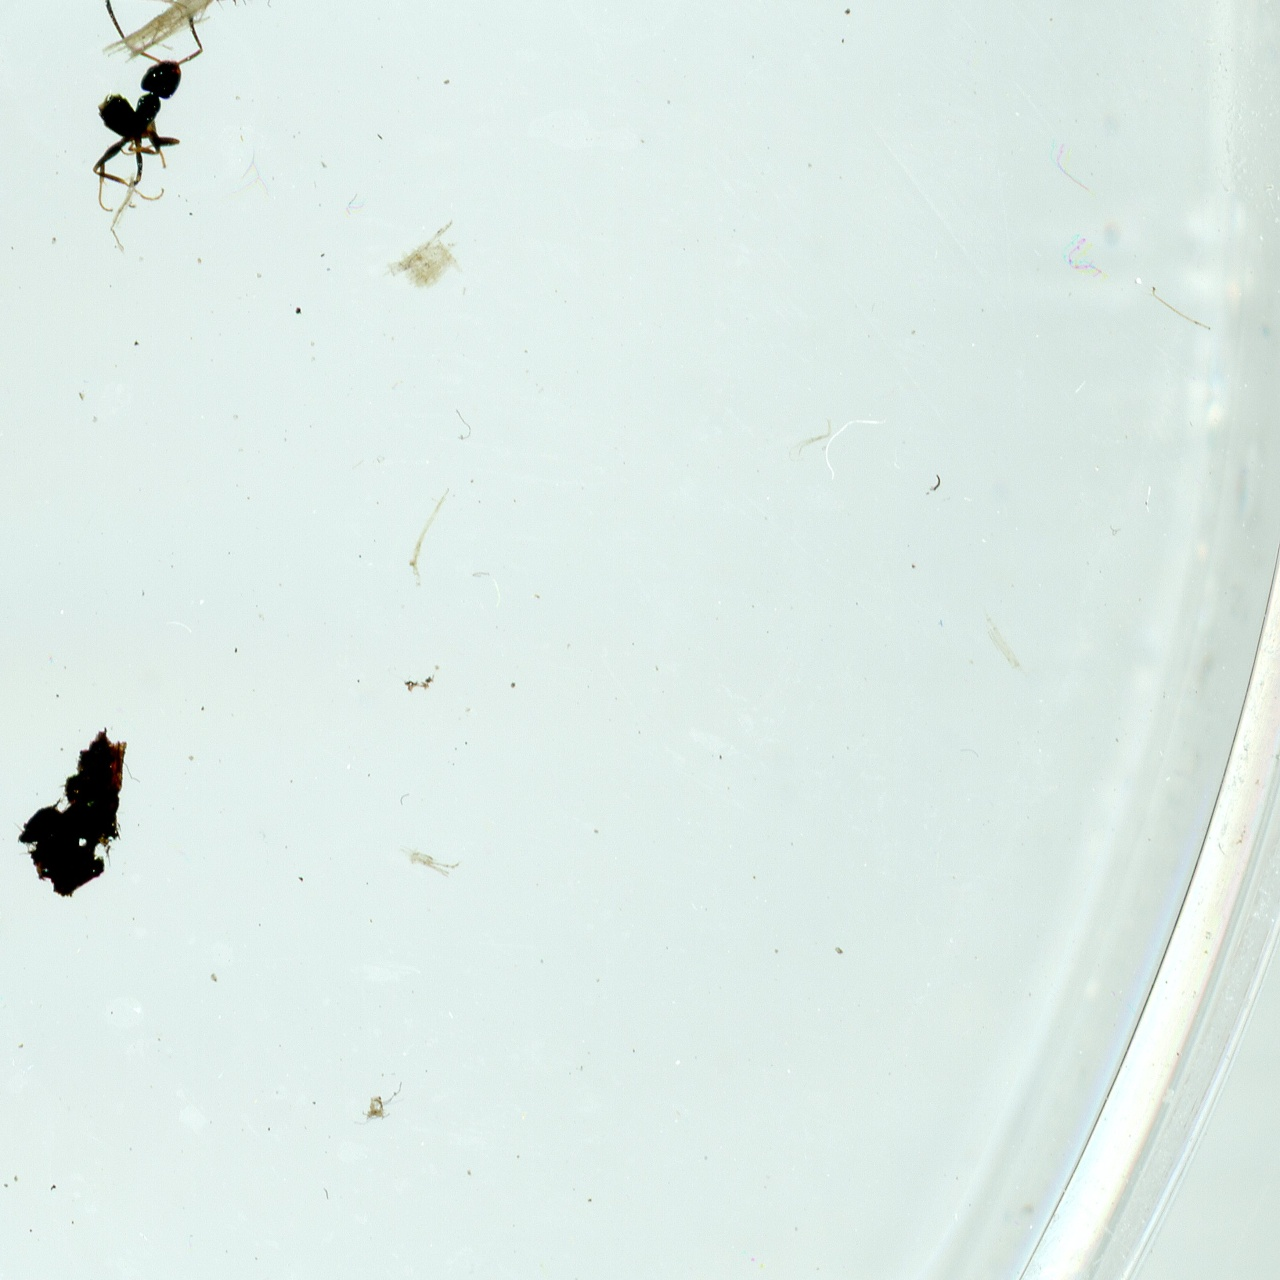arthropod: (89, 0, 206, 217)
